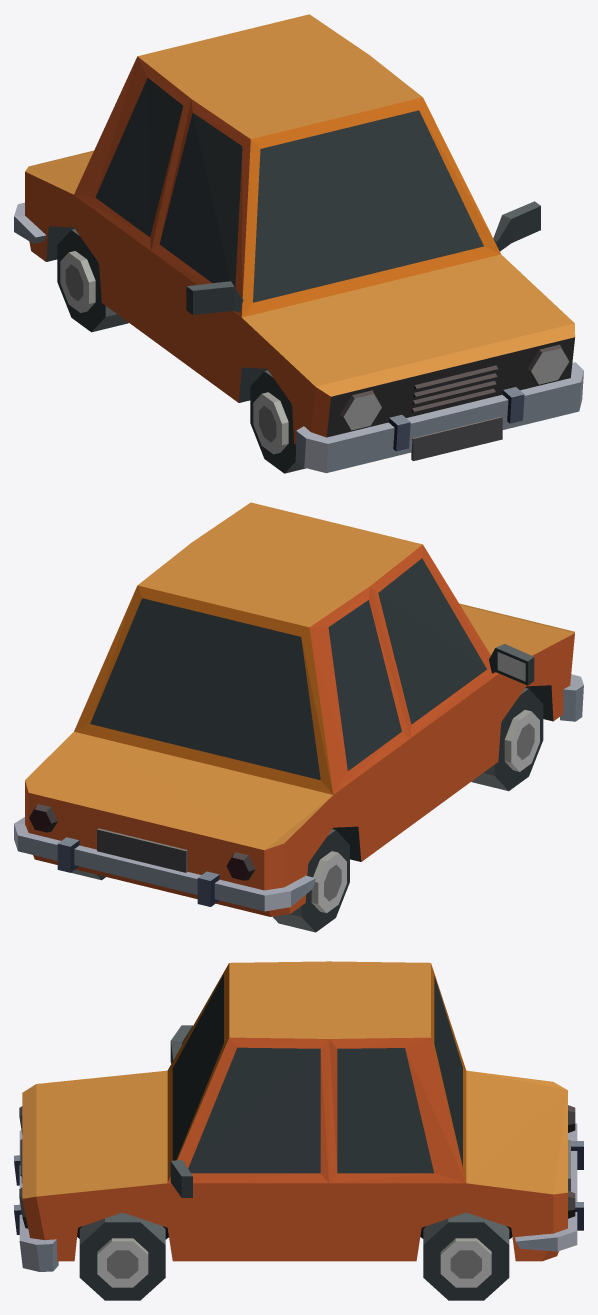
Rendered from TB_CITY_Car_Med_A.FBX.
The picture shows the model from 3 angles, top to bottom: view 1: azimuth 30°, elevation 25°; view 2: azimuth 150°, elevation 25°; view 3: azimuth 270°, elevation 25°; orthographic projection. The views are drawn at different scales.
Visible parts, largest first — view 1: TB_CITY_Car_Med_A, TB_Car_Med_Wheel001, TB_Car_Med_Wheel002; view 2: TB_CITY_Car_Med_A, TB_Car_Med_Wheel002, TB_Car_Med_Wheel001; view 3: TB_CITY_Car_Med_A, TB_Car_Med_Wheel004, TB_Car_Med_Wheel003.
Boxes of the visible parts, x1=… form: TB_CITY_Car_Med_A: x1=14, y1=14, x2=583, y2=473; TB_Car_Med_Wheel001: x1=57, y1=229, x2=128, y2=332; TB_Car_Med_Wheel002: x1=250, y1=370, x2=305, y2=473; TB_CITY_Car_Med_A: x1=14, y1=502, x2=583, y2=916; TB_Car_Med_Wheel002: x1=471, y1=688, x2=543, y2=791; TB_Car_Med_Wheel001: x1=273, y1=829, x2=349, y2=932; TB_CITY_Car_Med_A: x1=14, y1=961, x2=583, y2=1271; TB_Car_Med_Wheel004: x1=423, y1=1212, x2=509, y2=1300; TB_Car_Med_Wheel003: x1=79, y1=1212, x2=165, y2=1300.
Size of the model in its own units: 3.77 by 2.84 by 6.
